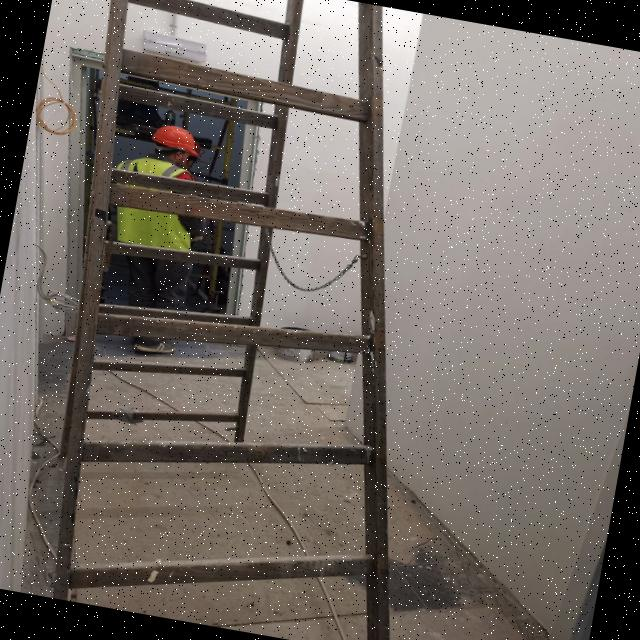Helmet: (150, 121, 204, 163)
Jacket: (109, 150, 208, 250)
